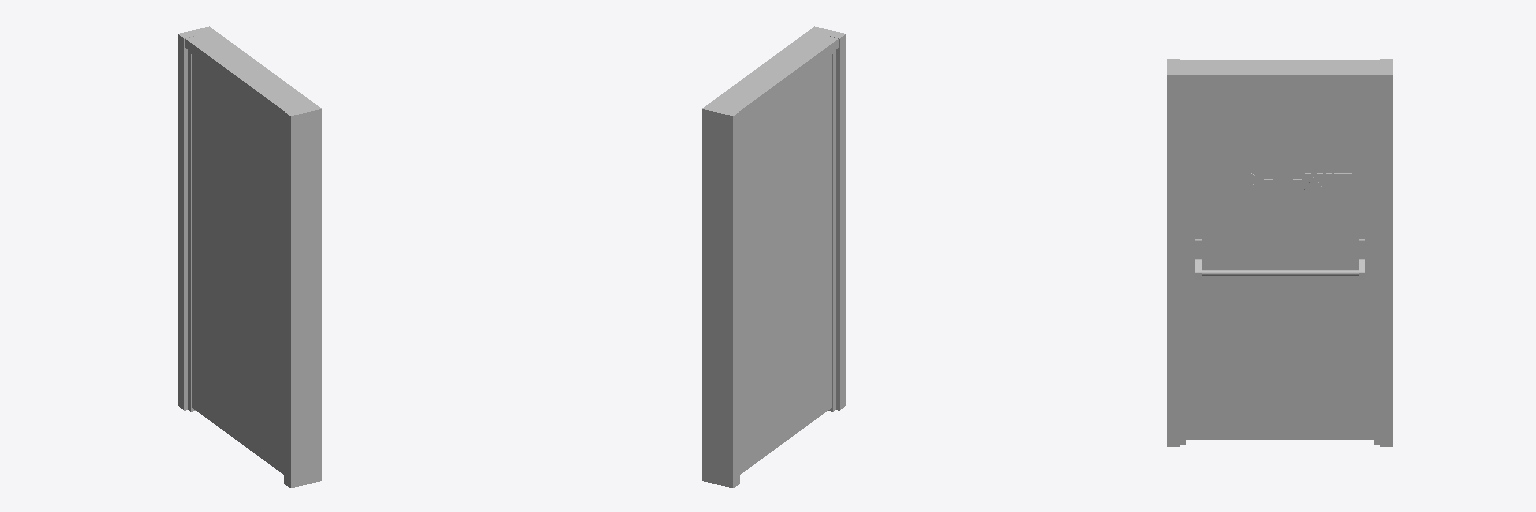
The model's file is Fire Exit.obj.
3 renders of one model, left to right at view 1: azimuth 30°, elevation 25°; view 2: azimuth 150°, elevation 25°; view 3: azimuth 270°, elevation 25°, orthographic.
Parts seen in each view (by area): view 1: Box001, Box007, Box006, Box008, Box003; view 2: Box001, Box006, Box007, Box008, Box004; view 3: Box001, Box006, Box007, Box008, Box003, Box004, TextPlus001, Cylinder001, Box005.
Part boxes in pixels (x1,y1,x2,y2): Box001: (192, 54, 283, 474); Box007: (284, 104, 321, 487); Box006: (178, 26, 214, 410); Box008: (185, 31, 314, 119); Box003: (188, 50, 195, 411); Box001: (740, 54, 831, 474); Box006: (702, 104, 739, 487); Box007: (809, 26, 845, 410); Box008: (709, 31, 838, 119); Box004: (828, 50, 835, 411); Box001: (1186, 87, 1373, 439); Box006: (1380, 59, 1392, 446); Box007: (1167, 59, 1179, 446); Box008: (1178, 60, 1381, 83); Box003: (1374, 87, 1379, 444); Box004: (1180, 87, 1185, 444); TextPlus001: (1212, 173, 1351, 189); Cylinder001: (1202, 270, 1358, 275); Box005: (1180, 84, 1379, 86).
Size of the model in its own units: 2.68 by 22.04 by 12.09.